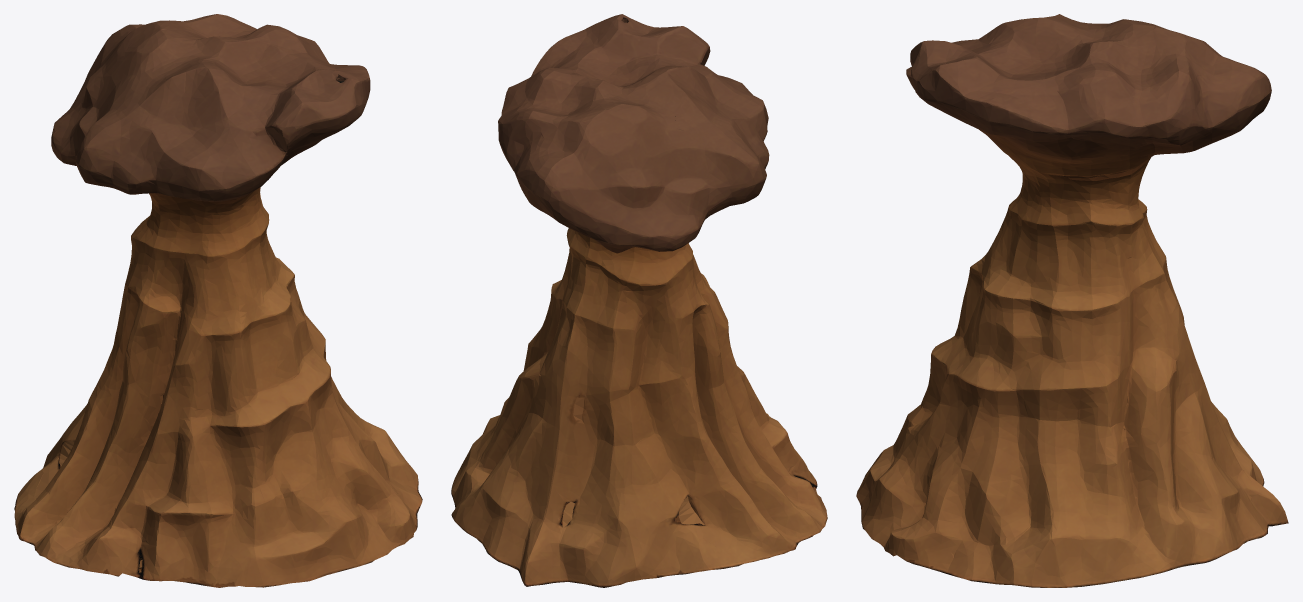
3 views of the same model, side by side, from view 1: azimuth 30°, elevation 25°; view 2: azimuth 150°, elevation 25°; view 3: azimuth 270°, elevation 25° (orthographic). The views are drawn at different scales.
Parts seen in each view (by area): view 1: world; view 2: world; view 3: world.
Part boxes in pixels (x1=…): world: x1=14, y1=14, x2=422, y2=587; world: x1=451, y1=14, x2=827, y2=587; world: x1=856, y1=14, x2=1288, y2=587.
Size of the model in its own units: 6.5 by 8.06 by 6.4.
Materials: 1 (1 with a texture image).
